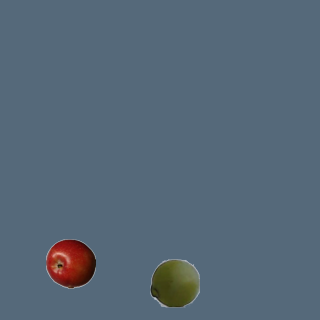Apple Braeburn: (45, 238, 95, 288)
Grape White 4: (149, 257, 199, 307)
